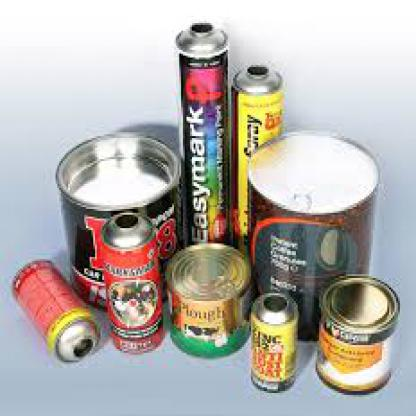METAL: (244, 128, 378, 341), (54, 130, 179, 310), (174, 23, 228, 245), (162, 242, 250, 358), (316, 272, 398, 395), (231, 63, 280, 255), (9, 257, 97, 362), (99, 209, 163, 353), (249, 288, 296, 391)
